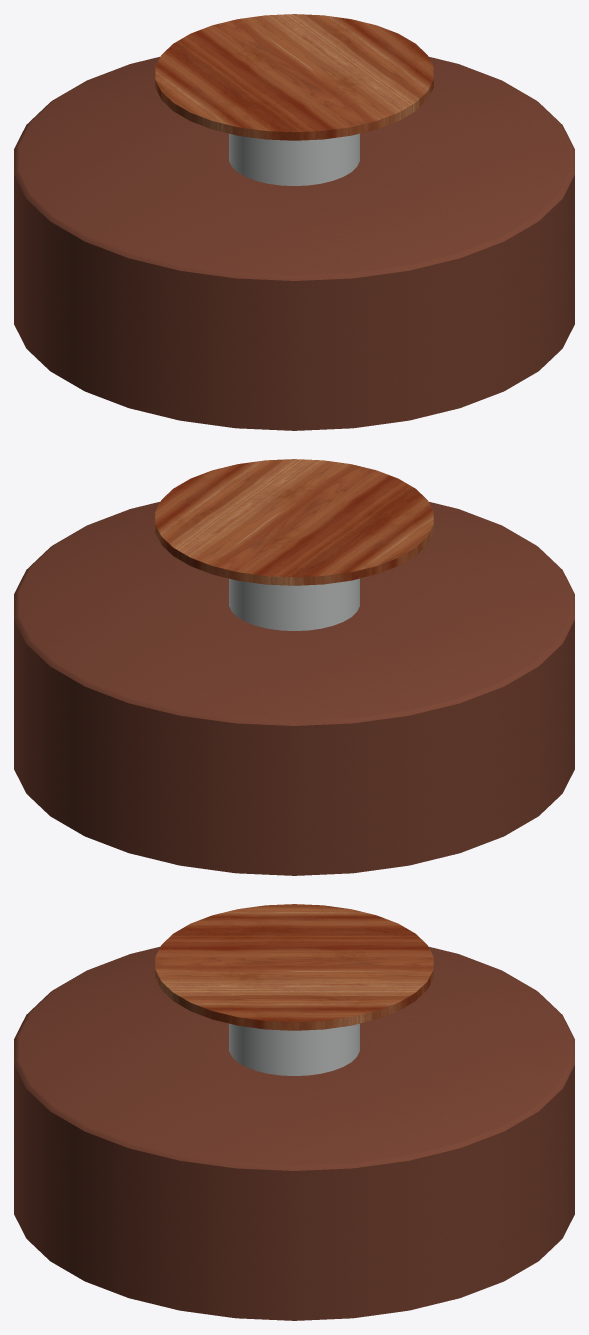
Rendered from RoundTable.FBX.
The picture shows the model from 3 angles, top to bottom: view 1: azimuth 30°, elevation 25°; view 2: azimuth 150°, elevation 25°; view 3: azimuth 270°, elevation 25°; orthographic projection.
Parts seen in each view (by area): view 1: RoundTable; view 2: RoundTable; view 3: RoundTable.
Part boxes in pixels (left/top/right/bottom): RoundTable: left=14, top=14, right=574, bottom=430; RoundTable: left=14, top=459, right=574, bottom=875; RoundTable: left=14, top=904, right=574, bottom=1320.
Size of the model in its own units: 240 by 112 by 239.
